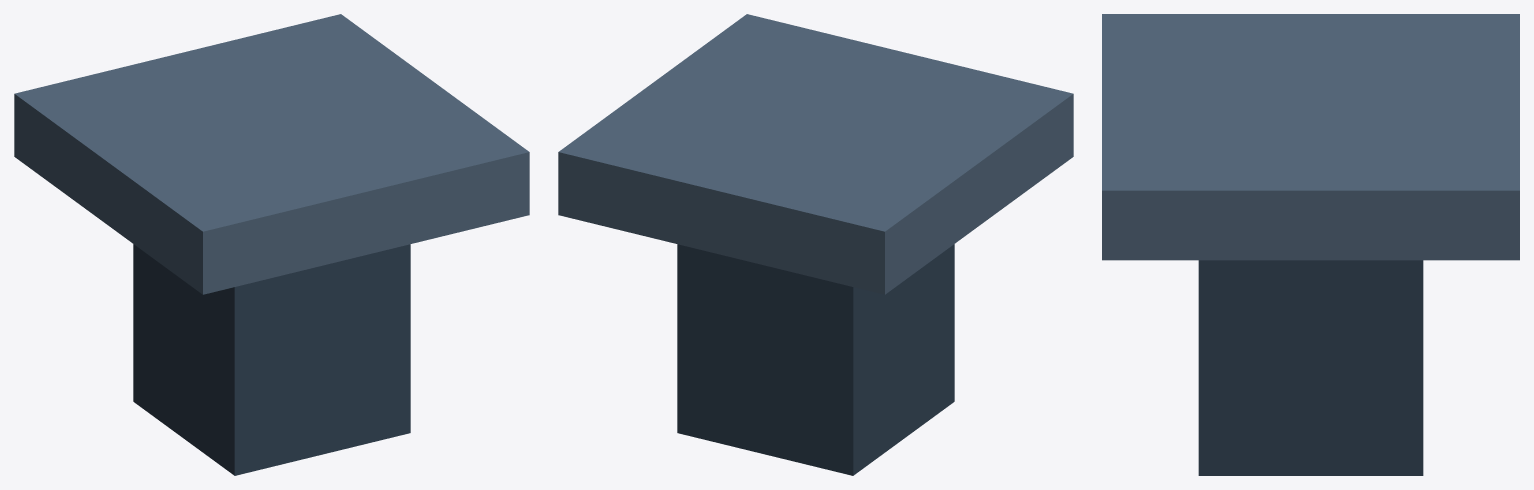
The model's file is banqueta.glb.
3 views of the same model, side by side, from view 1: azimuth 30°, elevation 25°; view 2: azimuth 150°, elevation 25°; view 3: azimuth 270°, elevation 25° (orthographic). The views are drawn at different scales.
Visible parts, largest first — view 1: Assento, Base; view 2: Assento, Base; view 3: Assento, Base.
Boxes of the visible parts, left/top/right/bottom form: Assento: left=14, top=14, right=529, bottom=294; Base: left=133, top=244, right=410, bottom=475; Assento: left=558, top=14, right=1073, bottom=294; Base: left=677, top=244, right=954, bottom=475; Assento: left=1102, top=14, right=1519, bottom=260; Base: left=1198, top=260, right=1423, bottom=475.
Bounding box in the file's own units: 0.65 × 0.56 × 0.65.
